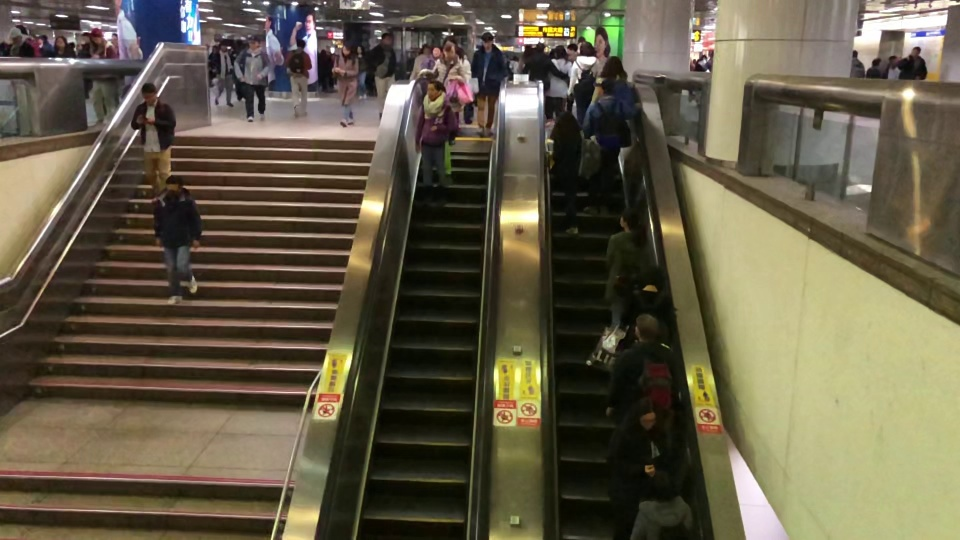person_head: (633, 311, 661, 341), (649, 468, 674, 501), (636, 397, 659, 430), (641, 263, 666, 289), (600, 55, 624, 78), (164, 172, 184, 199), (554, 109, 577, 132), (619, 207, 641, 230), (593, 77, 614, 96), (141, 82, 158, 105), (426, 80, 443, 101), (88, 26, 104, 44), (8, 26, 23, 45), (442, 42, 456, 61), (553, 43, 569, 59), (480, 32, 494, 50), (53, 35, 67, 51), (579, 42, 595, 56), (380, 32, 394, 47), (340, 40, 353, 56), (246, 35, 259, 49), (431, 45, 441, 59), (295, 38, 306, 50), (871, 55, 882, 67), (535, 42, 546, 52), (910, 46, 921, 56), (218, 42, 227, 51), (851, 49, 858, 58)
person_vbox: (579, 78, 645, 215), (604, 313, 680, 429), (614, 398, 670, 528), (150, 173, 203, 305), (548, 110, 600, 233), (605, 204, 652, 329), (131, 82, 176, 203), (415, 80, 458, 205), (418, 43, 467, 146), (629, 469, 694, 540), (619, 267, 672, 351), (472, 31, 506, 138), (86, 27, 120, 126), (589, 55, 642, 118), (232, 35, 269, 123), (566, 42, 601, 129), (366, 33, 395, 122), (520, 42, 570, 92), (331, 41, 359, 127), (544, 45, 573, 126), (284, 39, 313, 118), (212, 41, 235, 107), (896, 46, 927, 80), (3, 26, 35, 58), (419, 46, 442, 79), (50, 34, 76, 58), (849, 48, 865, 78), (864, 57, 883, 79)
